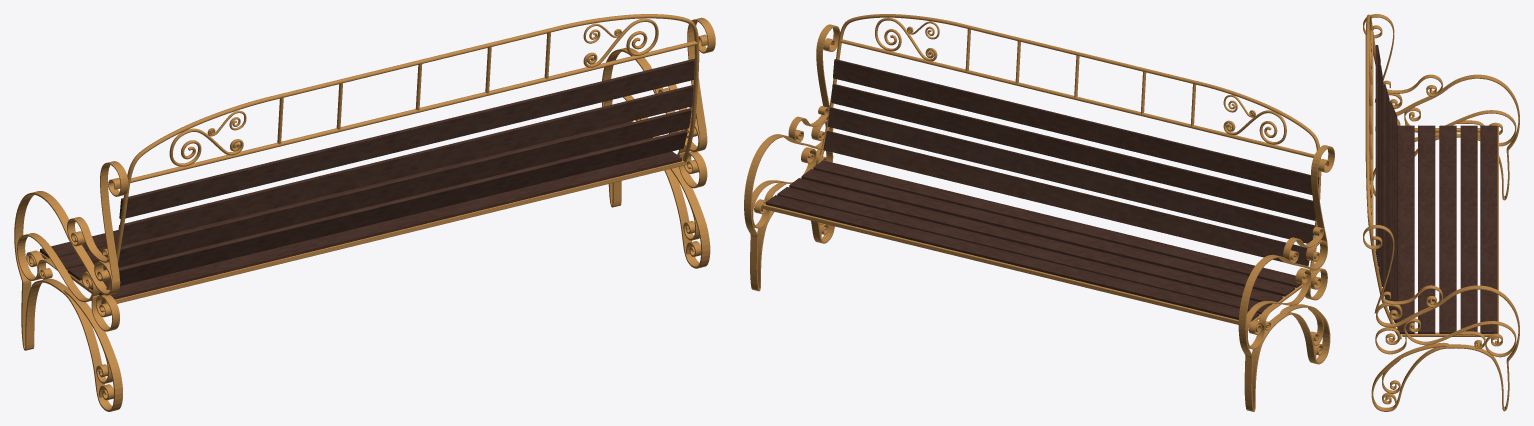
The model's file is Bench.fbx.
3 views of the same model, side by side, from view 1: azimuth 30°, elevation 25°; view 2: azimuth 150°, elevation 25°; view 3: azimuth 270°, elevation 25° (orthographic). The views are drawn at different scales.
Parts seen in each view (by area): view 1: LCP Bench.Shape; view 2: LCP Bench.Shape; view 3: LCP Bench.Shape.
Part boxes in pixels (x1=…): LCP Bench.Shape: x1=14, y1=14, x2=715, y2=411; LCP Bench.Shape: x1=744, y1=14, x2=1334, y2=411; LCP Bench.Shape: x1=1363, y1=14, x2=1519, y2=411.
Size of the model in its own units: 327 by 150 by 102.
1 material, 1 textured.
